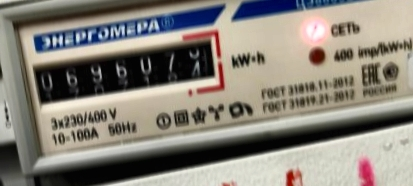0: (134, 51, 152, 75), (36, 68, 53, 91)
4: (186, 57, 202, 79)
6: (60, 64, 77, 87), (110, 56, 127, 78)
7: (159, 49, 177, 72)
9: (85, 60, 101, 83)
screen: (16, 26, 229, 114)
